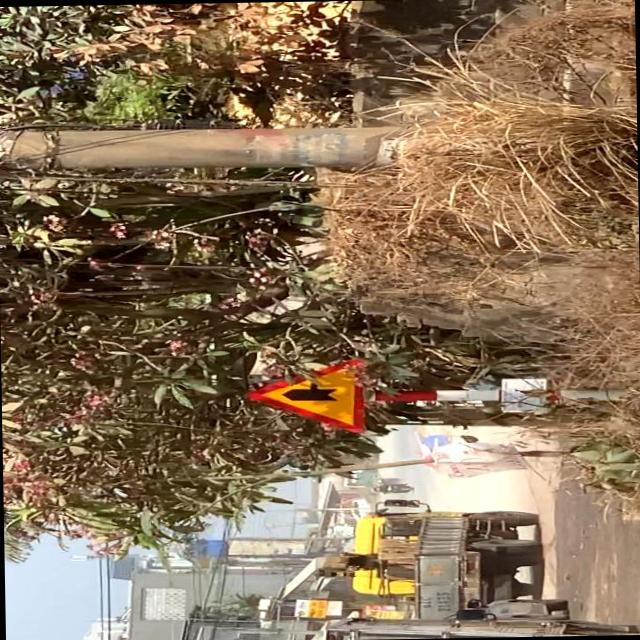W-207b: (238, 359, 368, 435)
